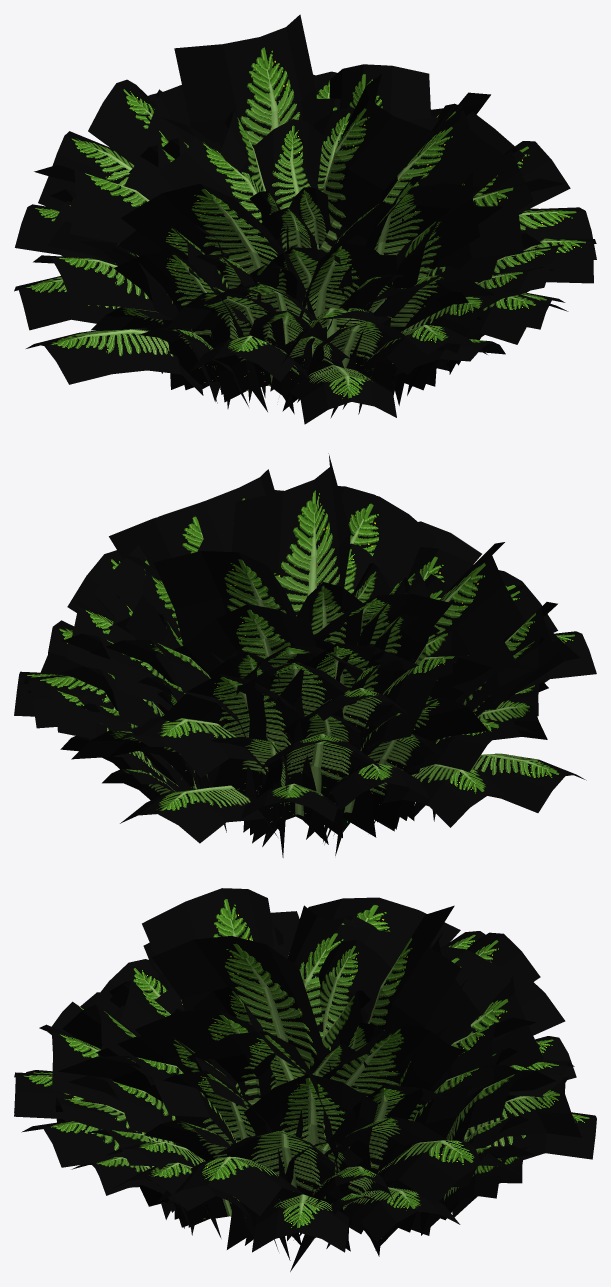
Rendered from long bush.fbx.
3 views of the same model, one above another, from view 1: azimuth 30°, elevation 25°; view 2: azimuth 150°, elevation 25°; view 3: azimuth 270°, elevation 25° (orthographic).
Visible parts, largest first — view 1: Long bush.002; view 2: Long bush.002; view 3: Long bush.002.
Boxes of the visible parts, x1,y1,x2,y2 form: Long bush.002: (14, 14, 596, 424); Long bush.002: (14, 453, 596, 857); Long bush.002: (14, 888, 596, 1271).
Size of the model in its own units: 234 by 135 by 232.
